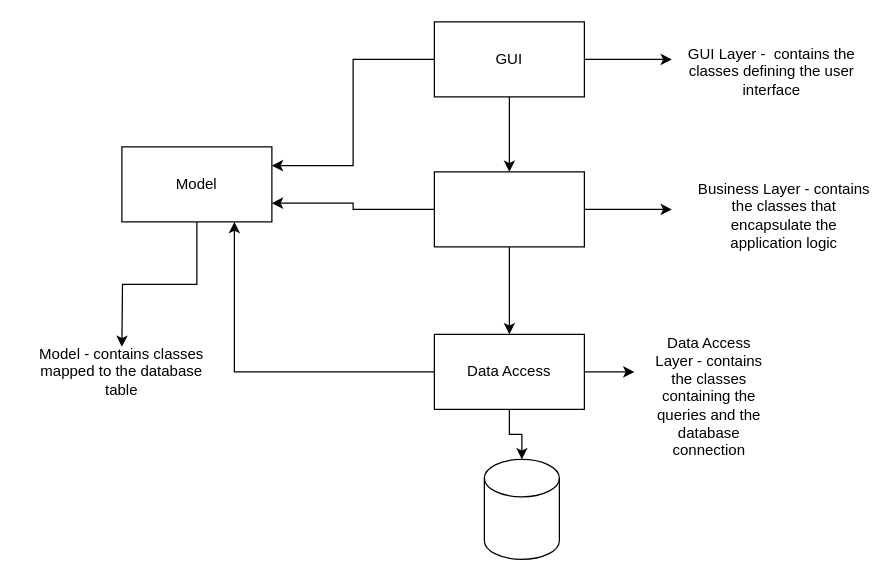
This 893x581 diagram has some shape labels left out. The centre of each missing label's shape, as x and y in pixels:
"Business Logic" goes at (508,209).
"MySQL DB" goes at (521,508).
